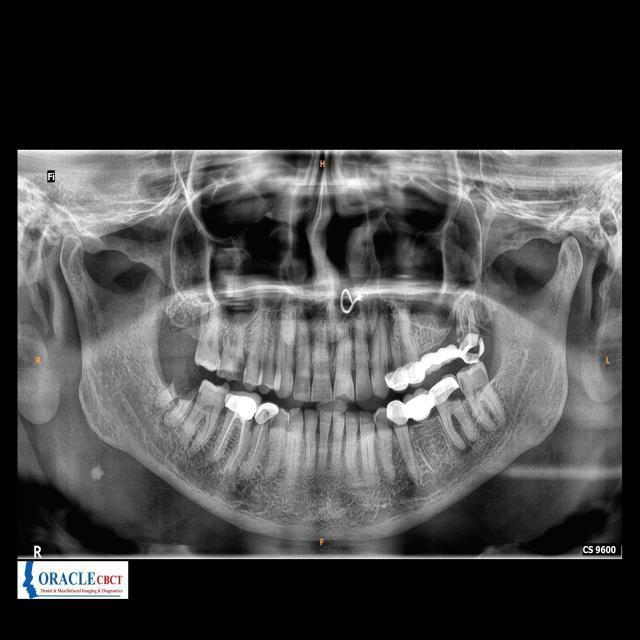dentin-curugu: (171, 379, 199, 407), (233, 353, 244, 381), (449, 390, 464, 405)
dolgu: (459, 332, 483, 363)
kanal-tedavisi: (216, 416, 244, 469), (246, 426, 266, 469), (452, 299, 473, 334)
kaplama: (426, 372, 463, 408), (227, 389, 257, 420), (385, 398, 411, 427), (252, 402, 279, 424), (404, 359, 427, 384), (387, 366, 410, 390)
kok-enfeksiyonu: (454, 433, 479, 461)
kopru: (398, 387, 441, 435), (418, 340, 463, 372)
